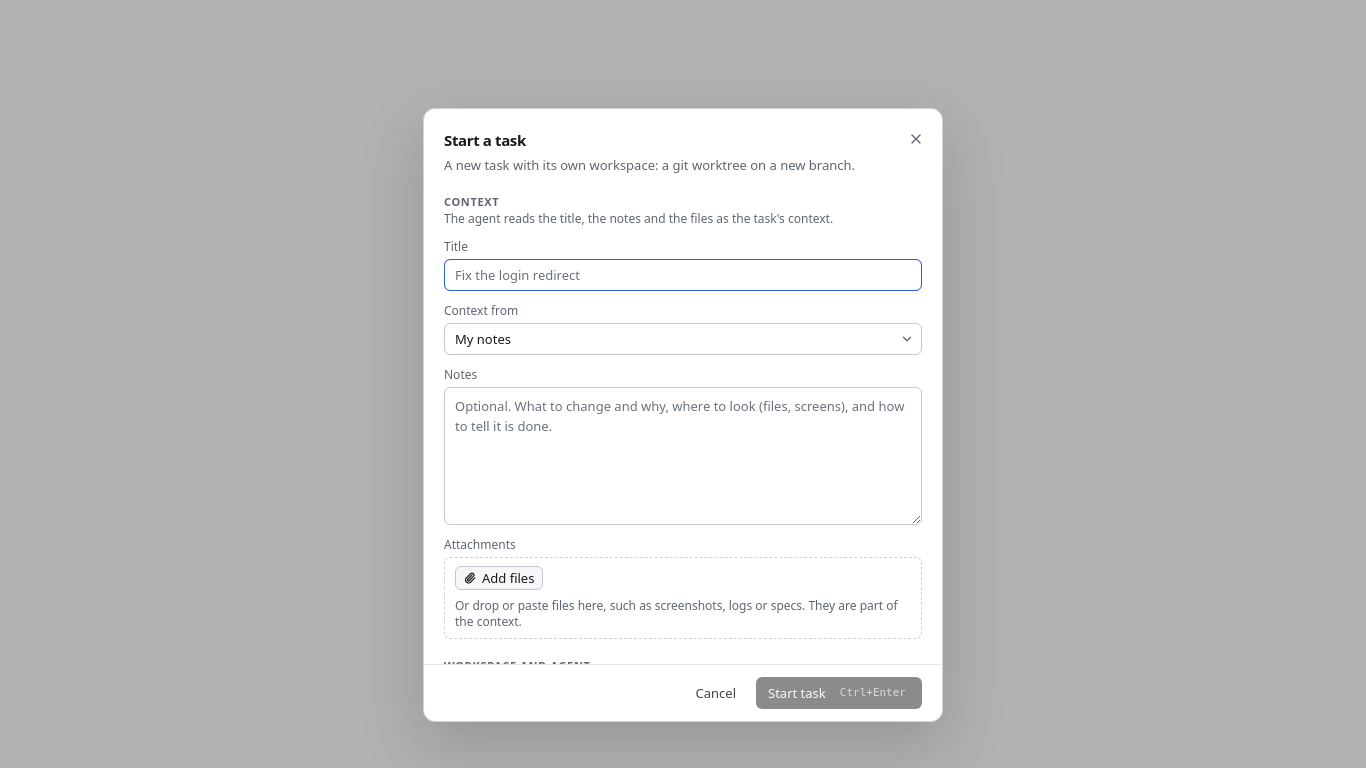
the Start a task dialog › says what the agent reads for each source
The image size is (1366, 768).
Select "A GitHub issue" in the dropdown named "Where the context comes from" at (683, 338), box [444,322,922,354]
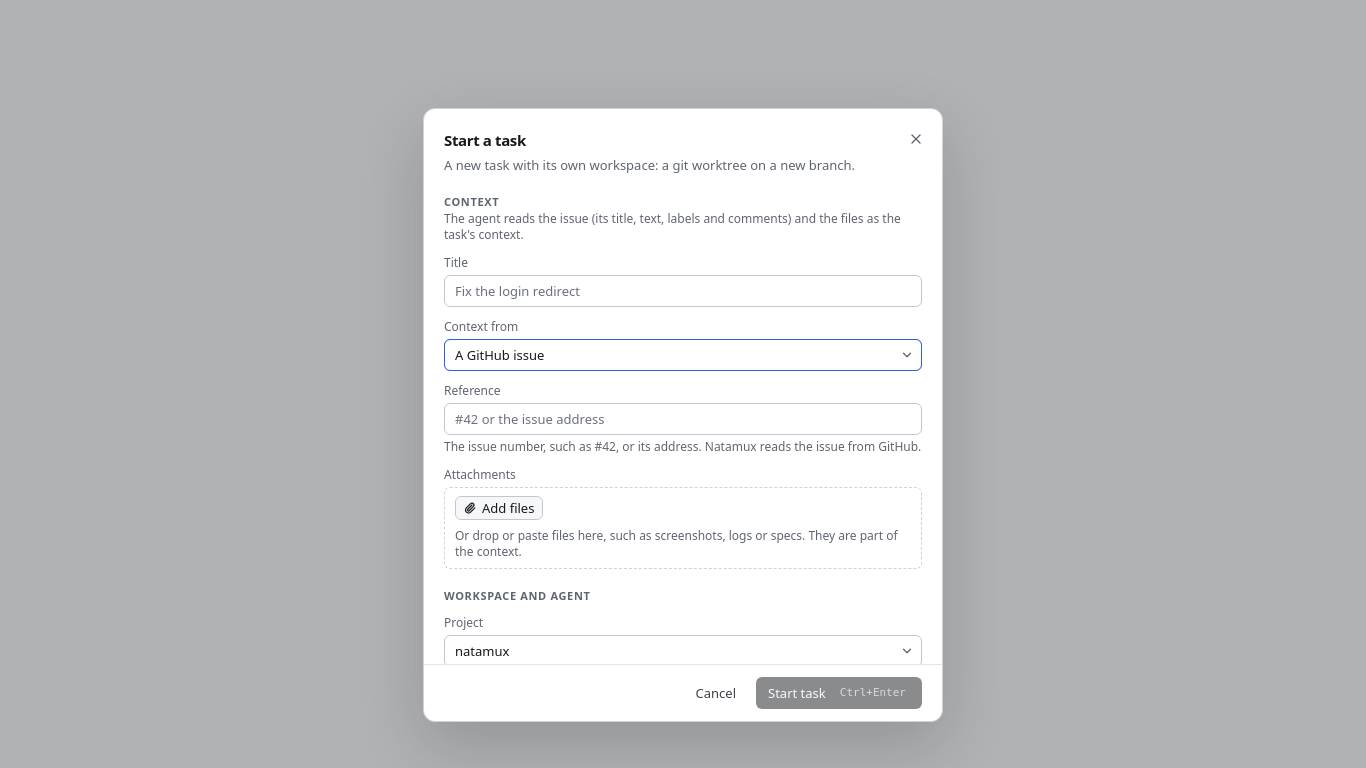
Check: the text "The agent reads the issue (its title, text, labels and comments) and the files as the task's context." is shown, box [444,210,901,242]
Select "Ticket (skill)" in the dropdown named "Where the context comes from" at (683, 354), box [444,338,922,370]
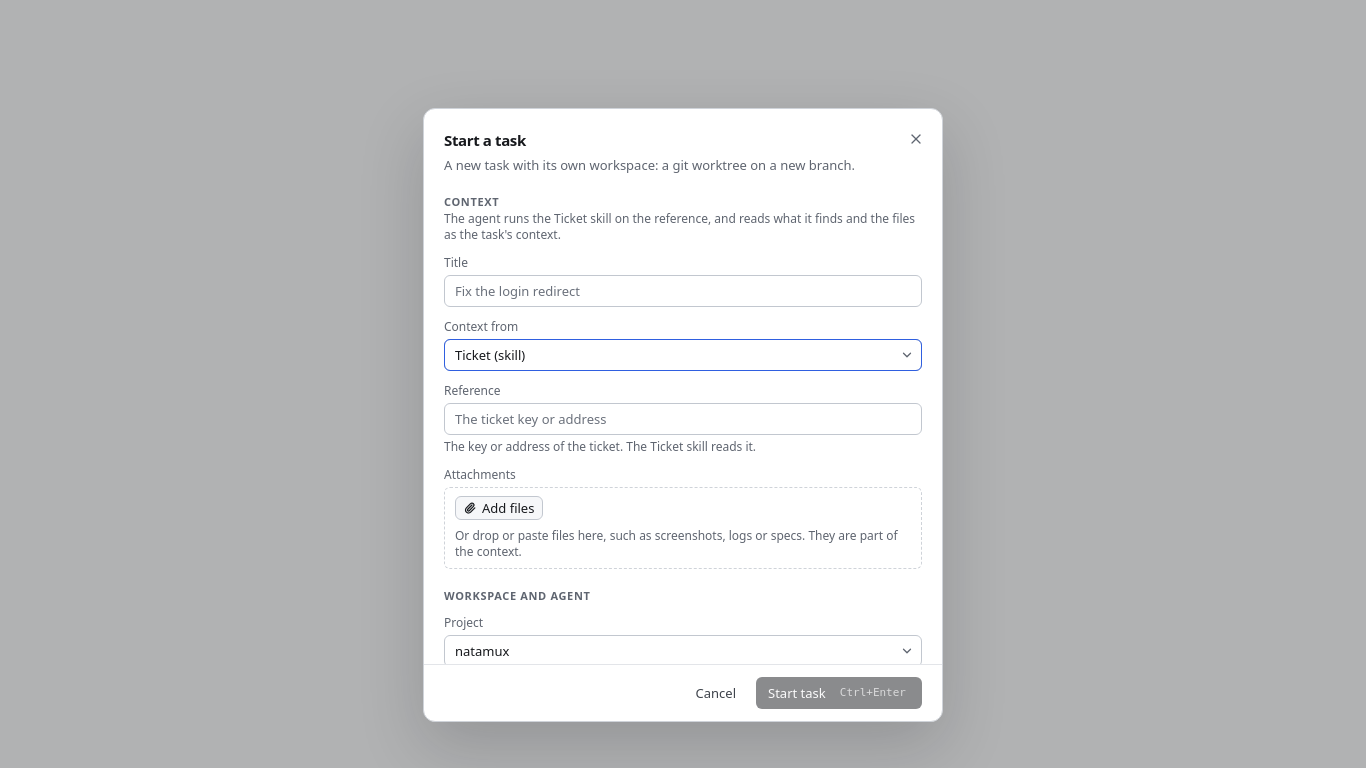
Check: the text "The agent runs the Ticket skill on the reference, and reads what it finds and the files as the task's context." is shown, box [444,210,915,242]
Select "Tracker (MCP server)" in the dropdown named "Where the context comes from" at (683, 354), box [444,338,922,370]
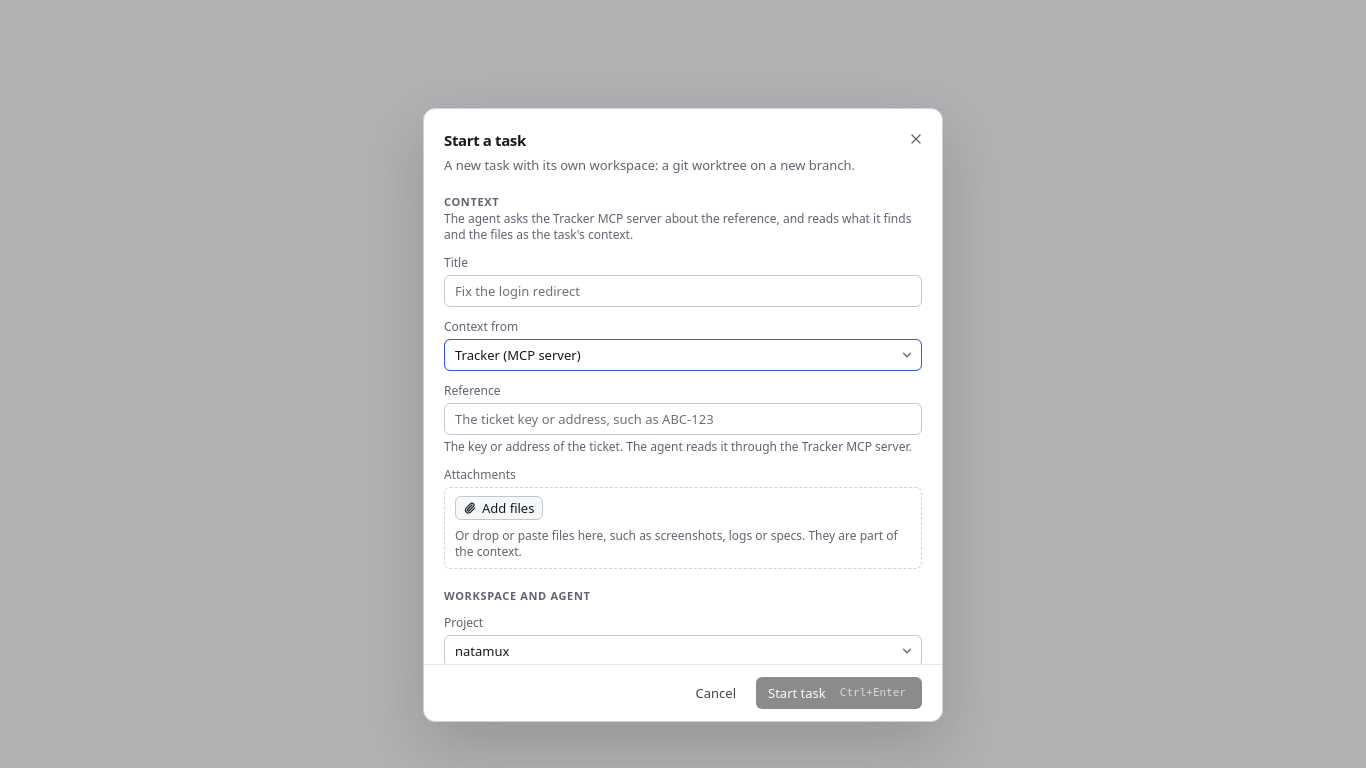
Check: the text "The agent asks the Tracker MCP server about the reference, and reads what it finds and the files as the task's context." is shown, box [444,210,911,242]
Select "My notes" in the dropdown named "Where the context comes from" at (683, 354), box [444,338,922,370]
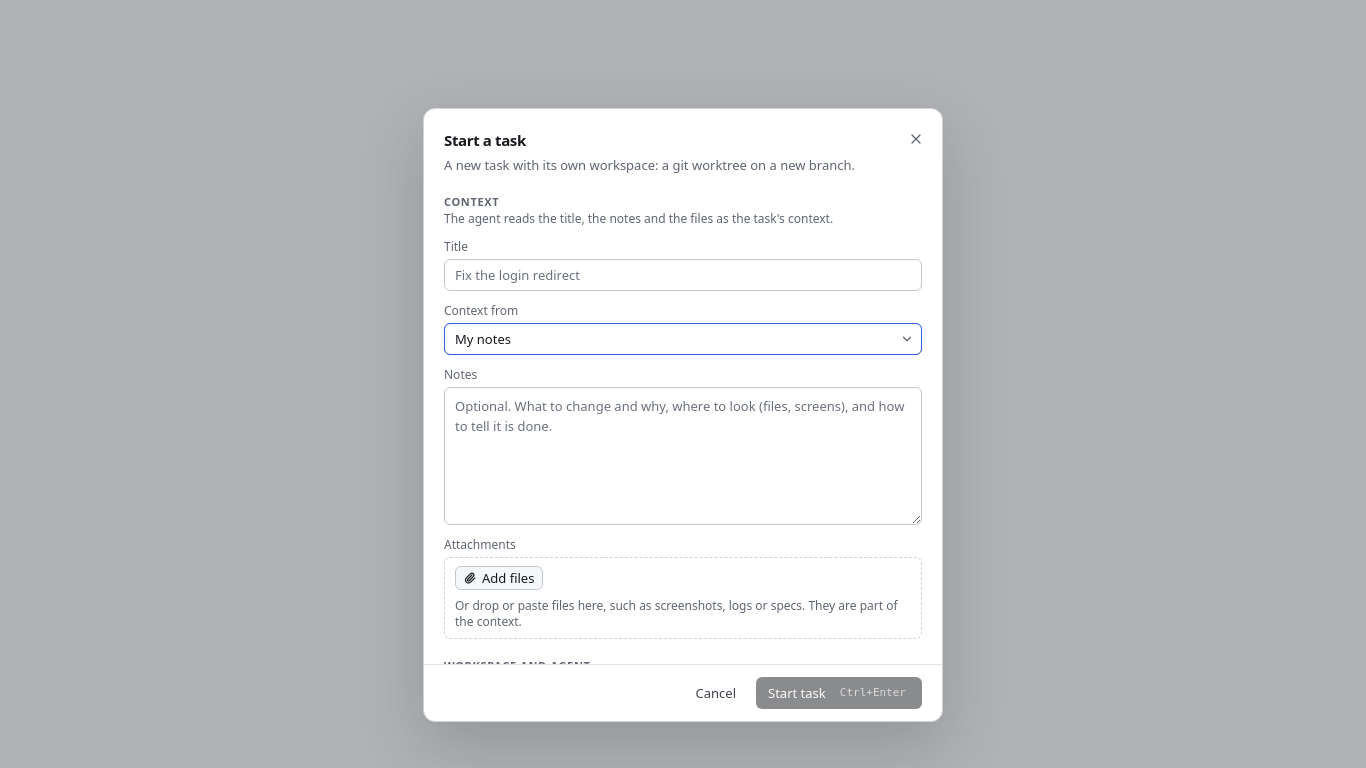
Check: the text "The agent reads the title, the notes and the files as the task's context." is shown, box [444,210,833,226]
